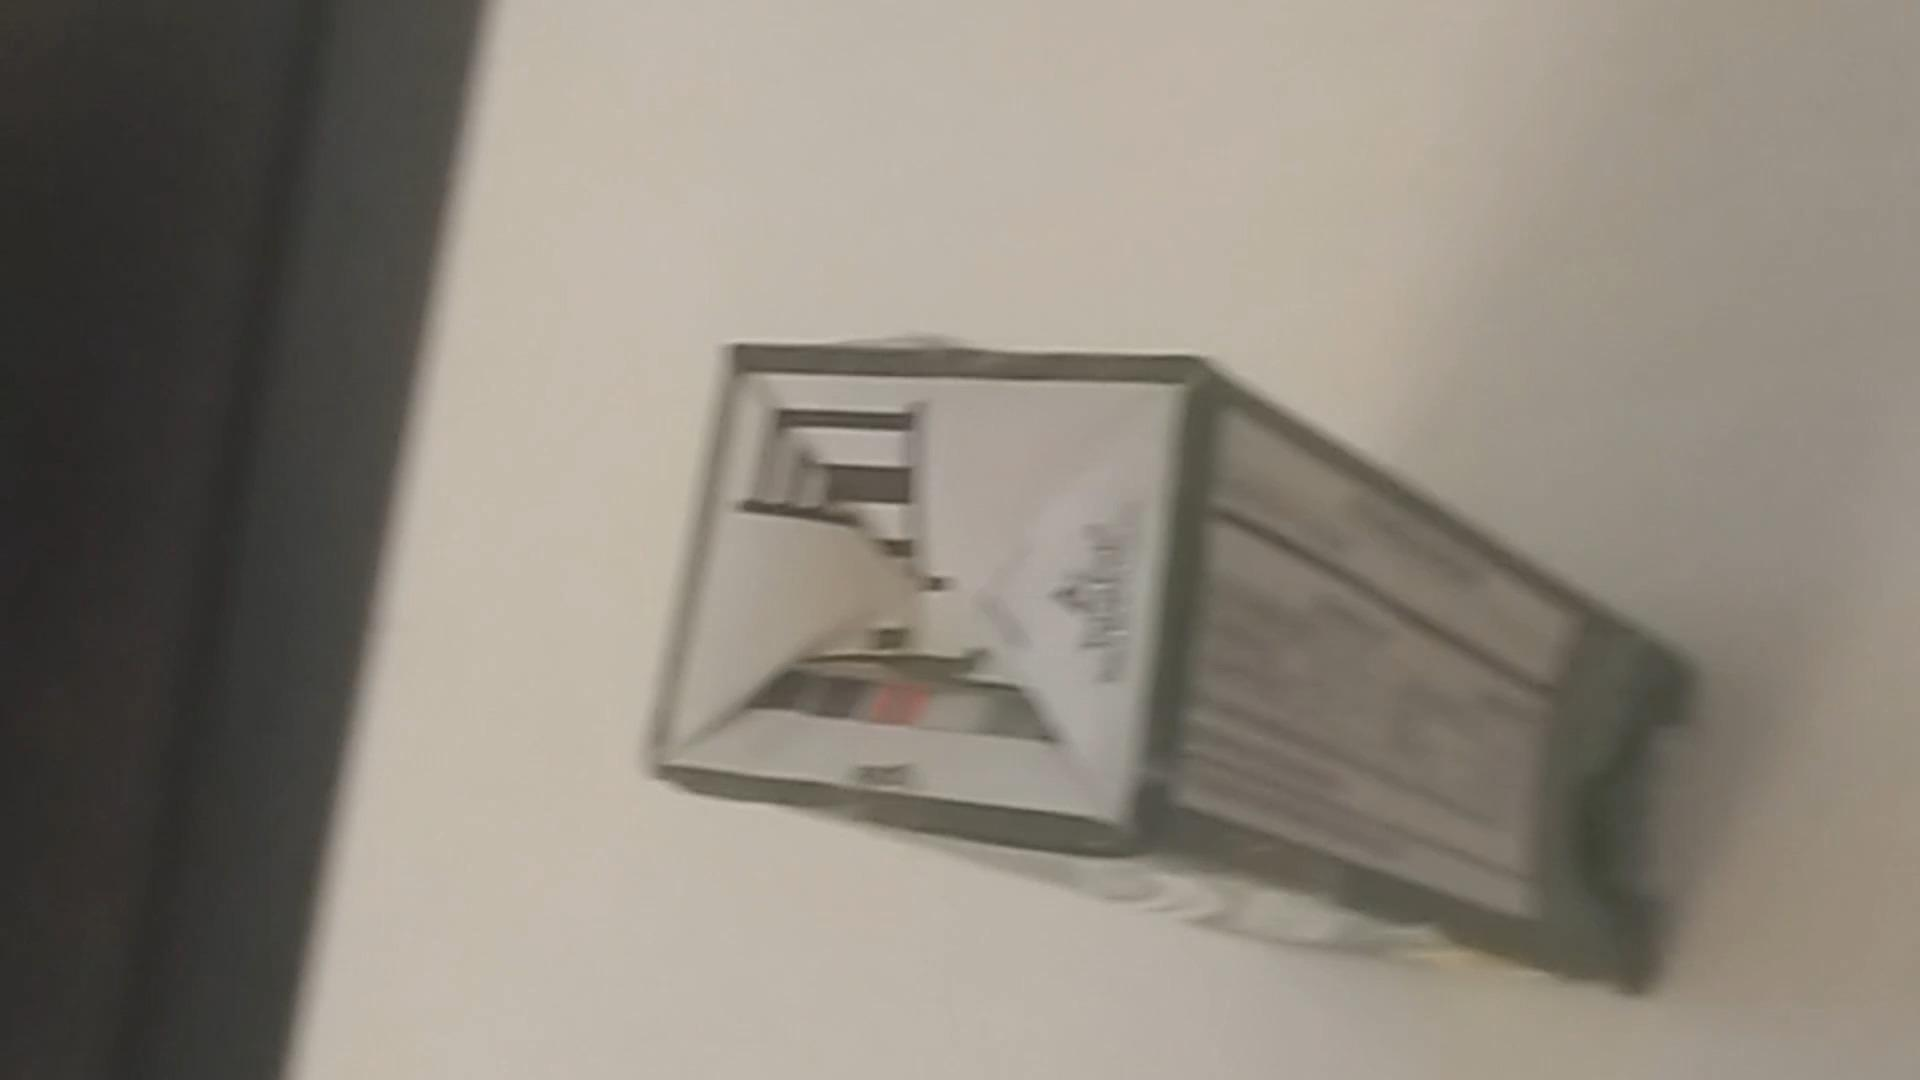coco: (640, 320, 1713, 1010)
